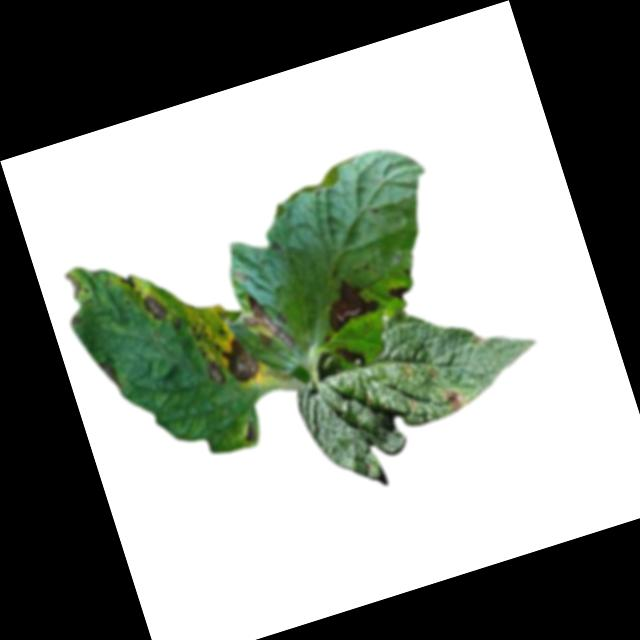Early_blight: (238, 290, 296, 362), (317, 274, 382, 334), (215, 331, 262, 389), (199, 354, 228, 392), (139, 291, 169, 325), (334, 341, 366, 372), (441, 382, 470, 415), (97, 358, 123, 391), (62, 271, 86, 306), (237, 419, 261, 447), (388, 283, 413, 307), (118, 275, 137, 295)
